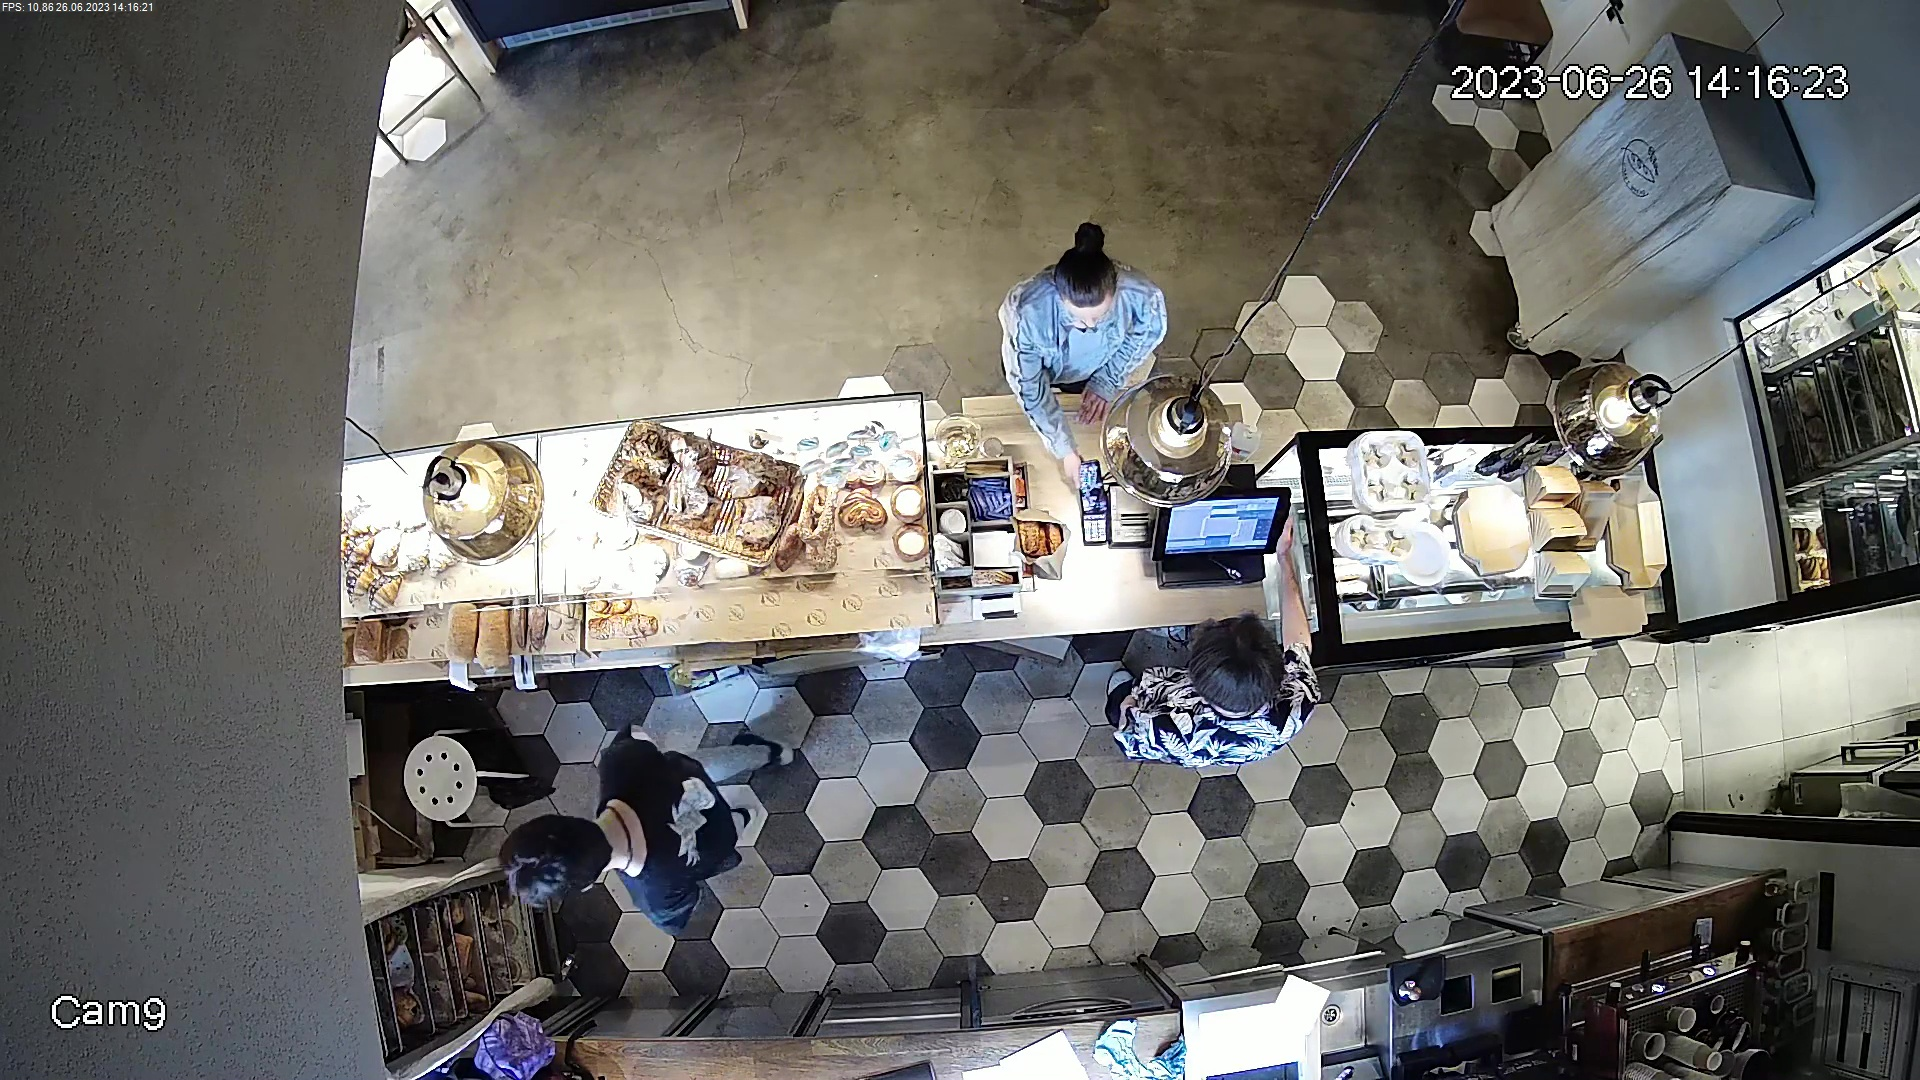pack: (1011, 502, 1069, 585)
terminal: (1073, 446, 1110, 543)
